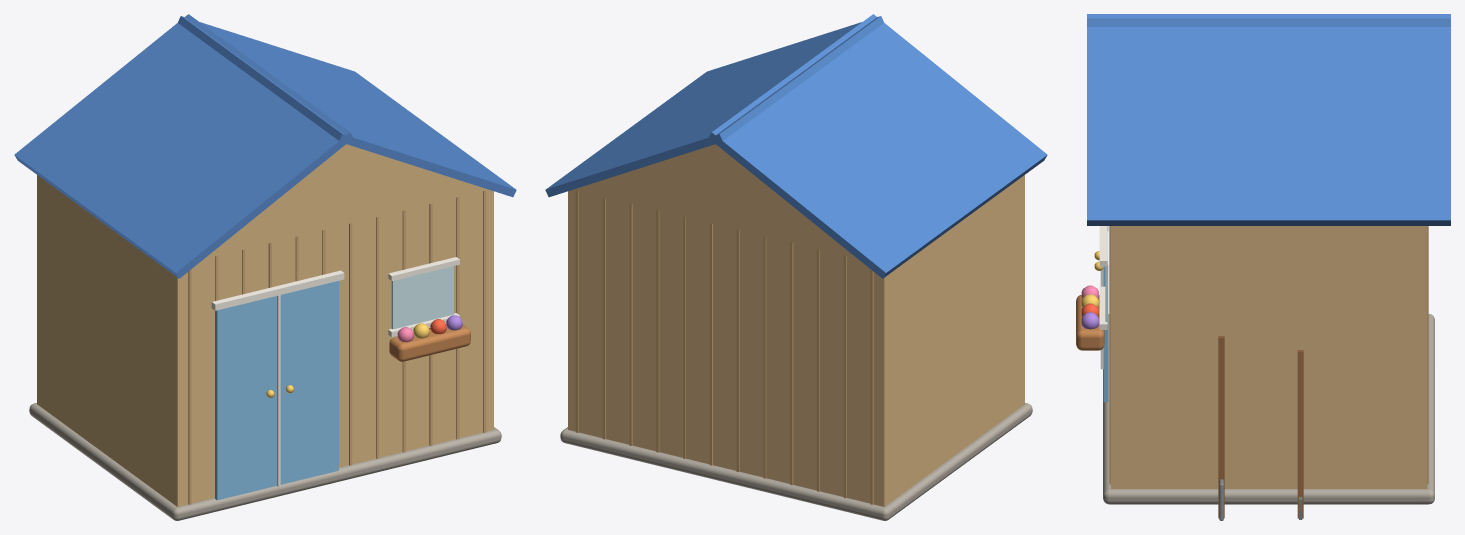
The model's file is greenhouse-shed.glb.
3 renders of one model, left to right at view 1: azimuth 30°, elevation 25°; view 2: azimuth 150°, elevation 25°; view 3: azimuth 270°, elevation 25°, orthographic. The views are drawn at different scales.
Bounding box in the file's own units: 3.03 × 2.79 × 2.37.
